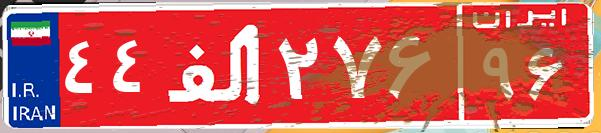2: (273, 28, 330, 110)
4: (57, 26, 110, 107), (110, 28, 158, 105)
6: (385, 28, 445, 110), (525, 38, 570, 115)
7: (330, 28, 385, 110)
9: (475, 38, 525, 113)
الف: (158, 15, 273, 115)
